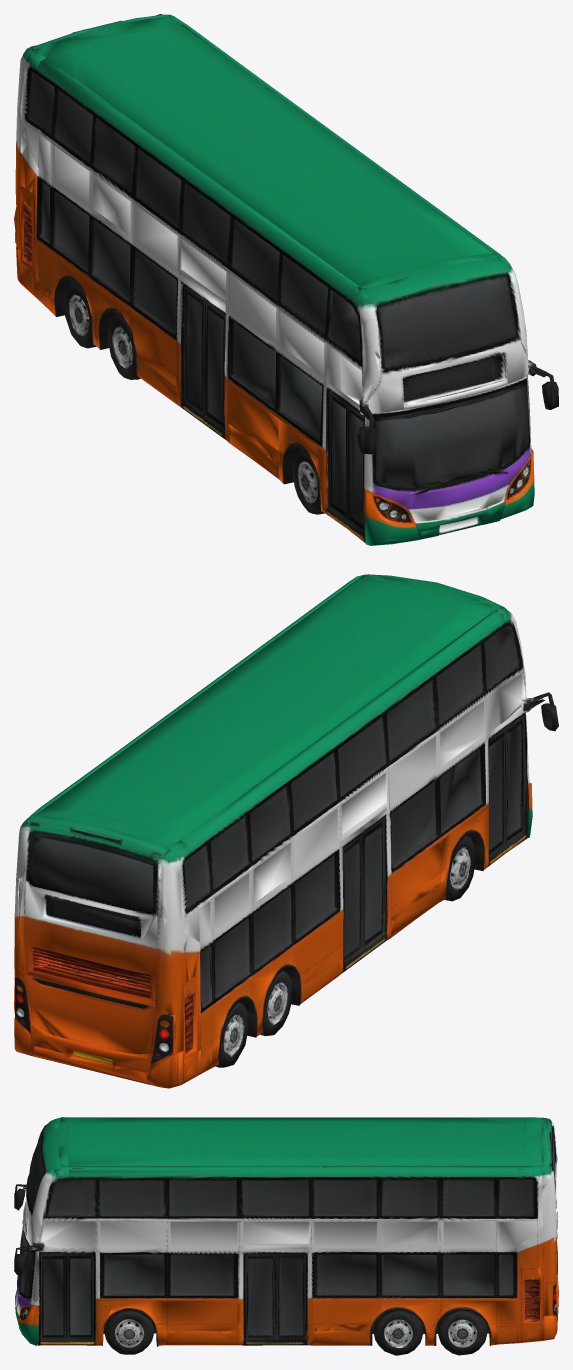
The model's file is v03-double-decker-10k.glb.
3 renders of one model, top to bottom at view 1: azimuth 30°, elevation 25°; view 2: azimuth 150°, elevation 25°; view 3: azimuth 270°, elevation 25°, orthographic. The views are drawn at different scales.
Parts seen in each view (by area): view 1: tripo_node_13b47a70-4342-4c98-b890-904b0af0f36a; view 2: tripo_node_13b47a70-4342-4c98-b890-904b0af0f36a; view 3: tripo_node_13b47a70-4342-4c98-b890-904b0af0f36a.
Part boxes in pixels (<box>): tripo_node_13b47a70-4342-4c98-b890-904b0af0f36a: <box>14,14,558,545</box>; tripo_node_13b47a70-4342-4c98-b890-904b0af0f36a: <box>14,574,558,1088</box>; tripo_node_13b47a70-4342-4c98-b890-904b0af0f36a: <box>14,1117,558,1355</box>.
Size of the model in its own units: 0.3003 by 0.379 by 0.981.
1 material, 1 textured.
